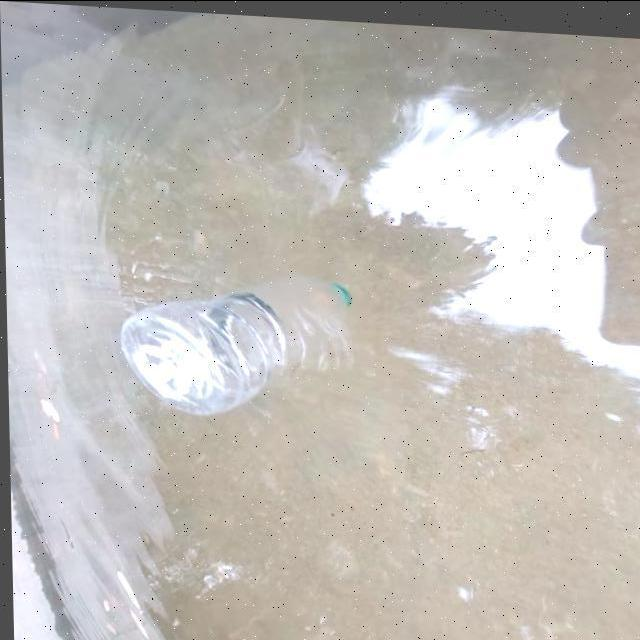Bottle: (102, 268, 364, 426)
